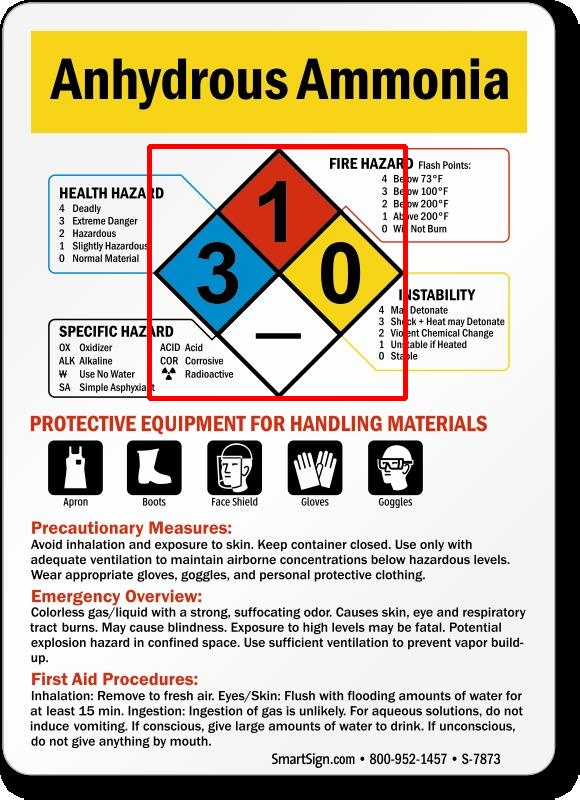nfpa: (149, 146, 405, 398)
